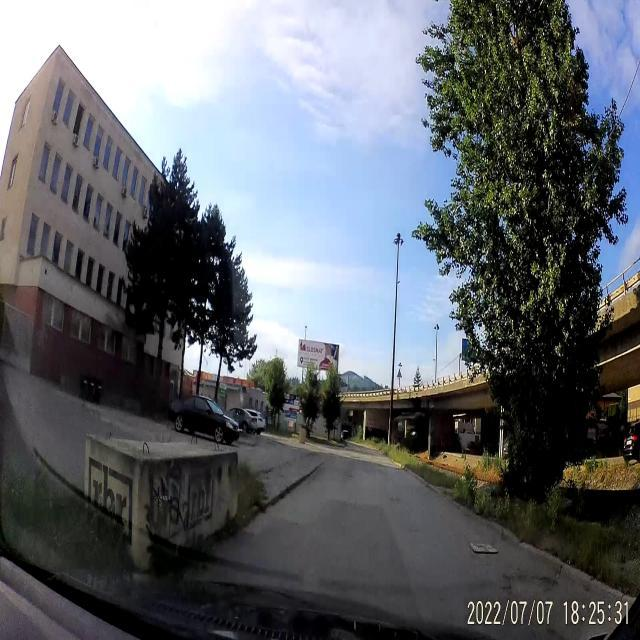Manhole: (469, 536, 507, 558)
Pothole: (495, 559, 560, 597)
